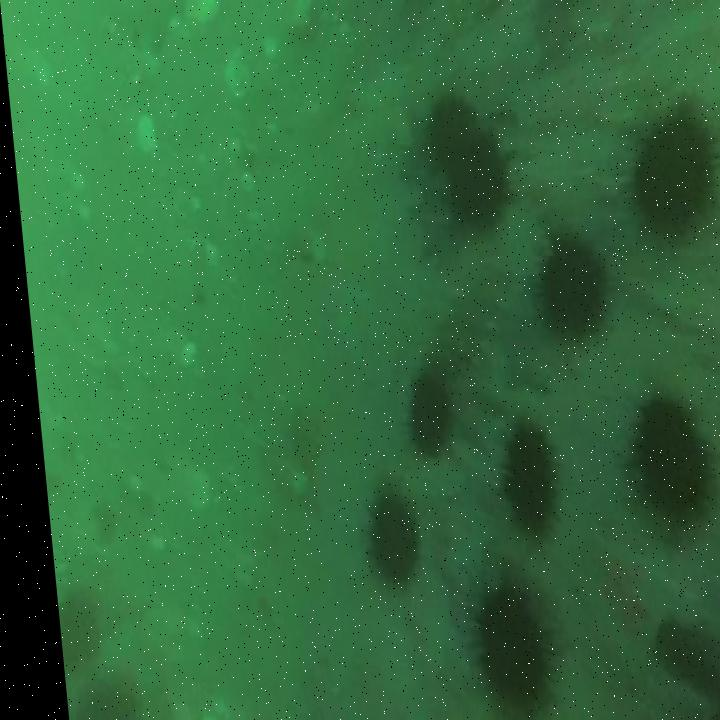echinus: (629, 115, 716, 234), (624, 400, 706, 517), (462, 590, 538, 708), (532, 240, 602, 336), (490, 425, 551, 533), (444, 126, 508, 217), (354, 500, 409, 583), (399, 380, 446, 450), (427, 100, 473, 148)
holothurian: (411, 256, 513, 350)
starfish: (494, 304, 543, 395)
